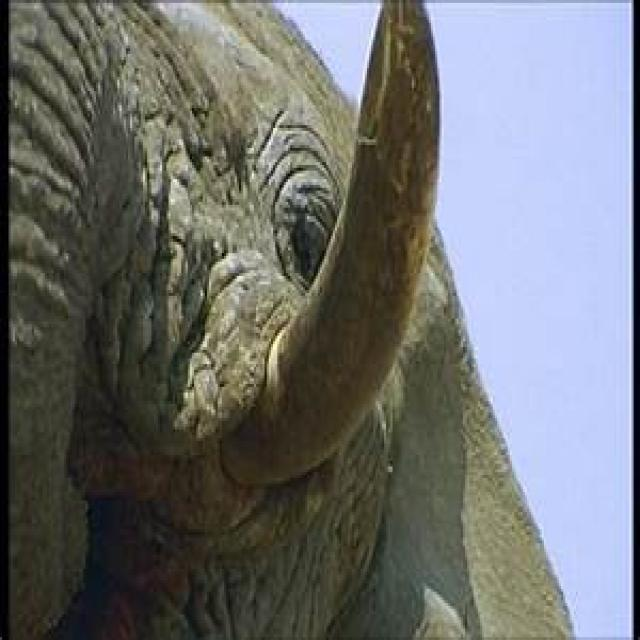elephant: (0, 0, 576, 640)
